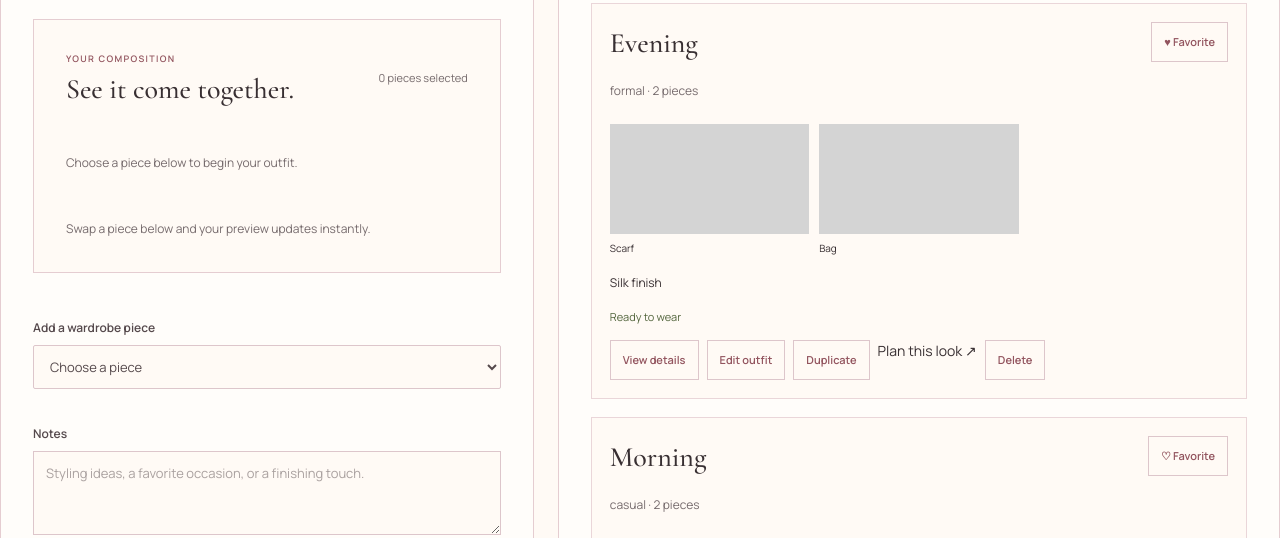
Test: requires an explicit delete action and allows keeping an outfit
(page scrolled)
Click the button "Delete" at (1015, 360), box [985,340,1045,380]
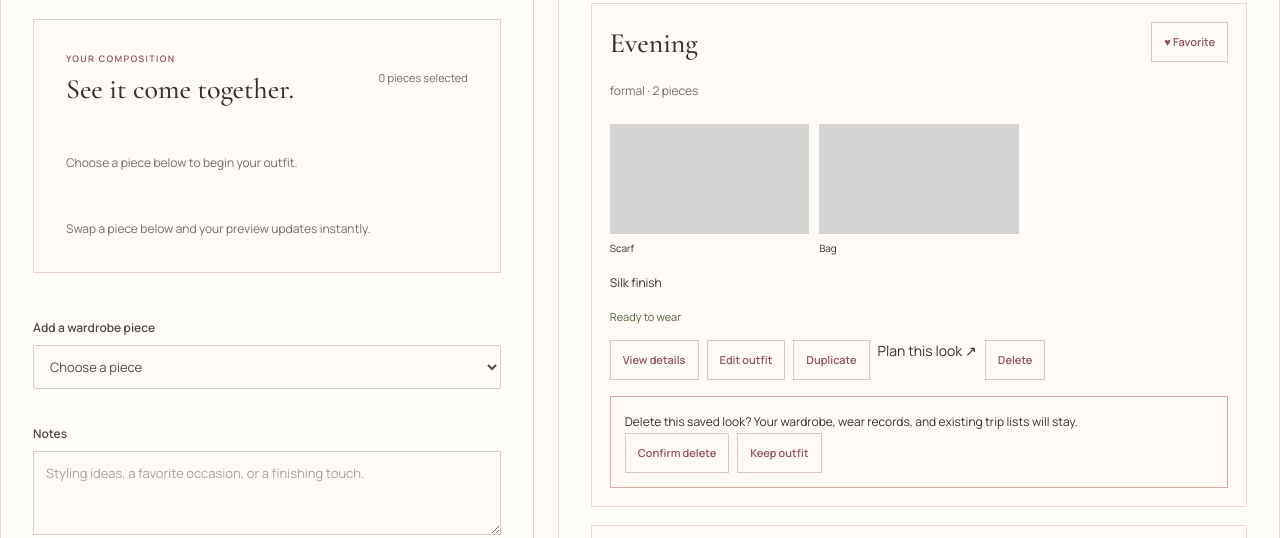
Click the button "Keep outfit" at (779, 453), box [737,433,822,473]
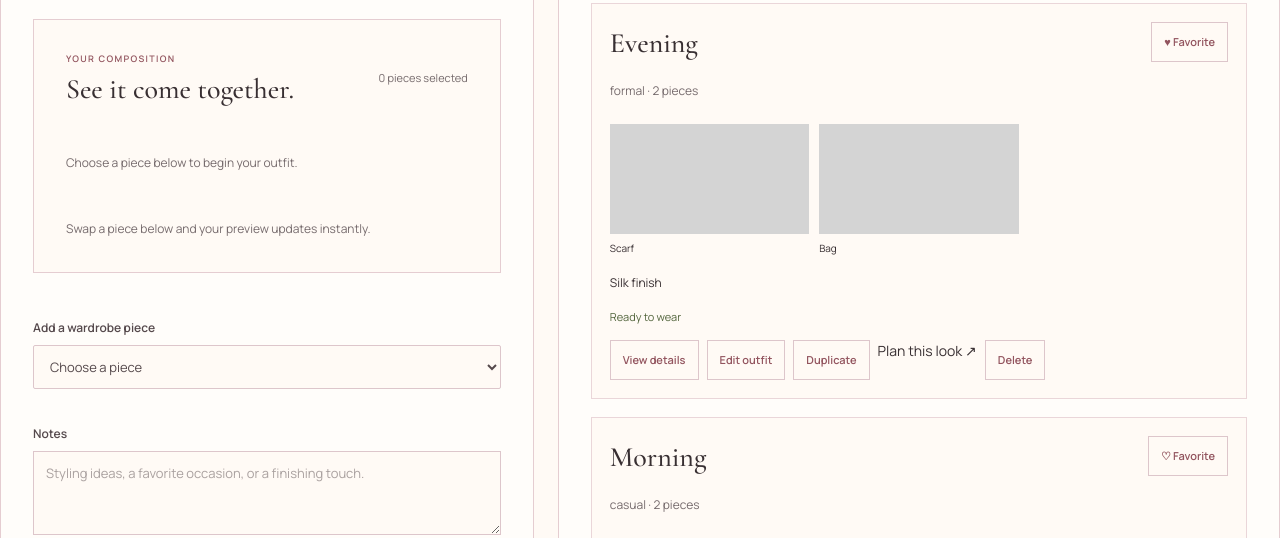
Check: the button "Confirm delete" is gone
